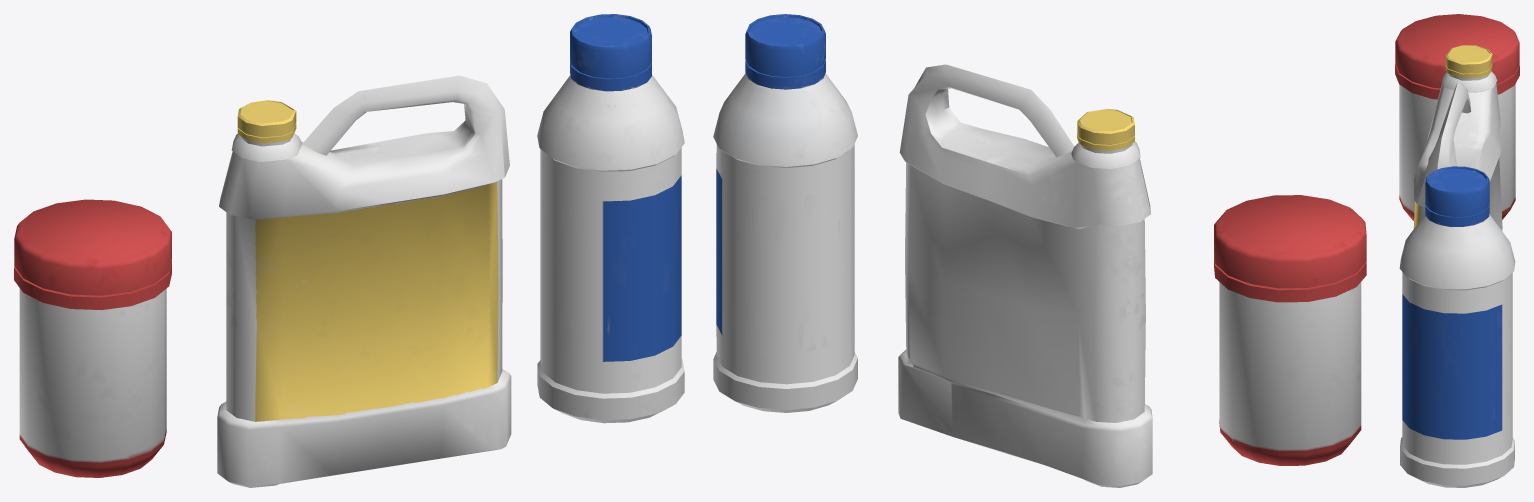
Rendered from ChemContainers00.fbx.
The picture shows the model from 3 angles, left to right: view 1: azimuth 30°, elevation 25°; view 2: azimuth 150°, elevation 25°; view 3: azimuth 270°, elevation 25°; orthographic projection. The views are drawn at different scales.
Parts seen in each view (by area): view 1: Chemicals00, Chemicals02, Chemicals01; view 2: Chemicals00, Chemicals02, Chemicals01; view 3: Chemicals02, Chemicals01, Chemicals00.
Boxes of the visible parts, x1,y1,x2,y2 form: Chemicals00: (217, 75, 511, 487); Chemicals02: (537, 14, 684, 423); Chemicals01: (14, 199, 171, 477); Chemicals00: (898, 64, 1152, 487); Chemicals02: (713, 14, 857, 412); Chemicals01: (1214, 195, 1366, 465); Chemicals02: (1399, 166, 1515, 487); Chemicals01: (1395, 14, 1519, 220); Chemicals00: (1413, 45, 1502, 230).
Bounding box in the file's own units: 335 × 181 × 70.84.
